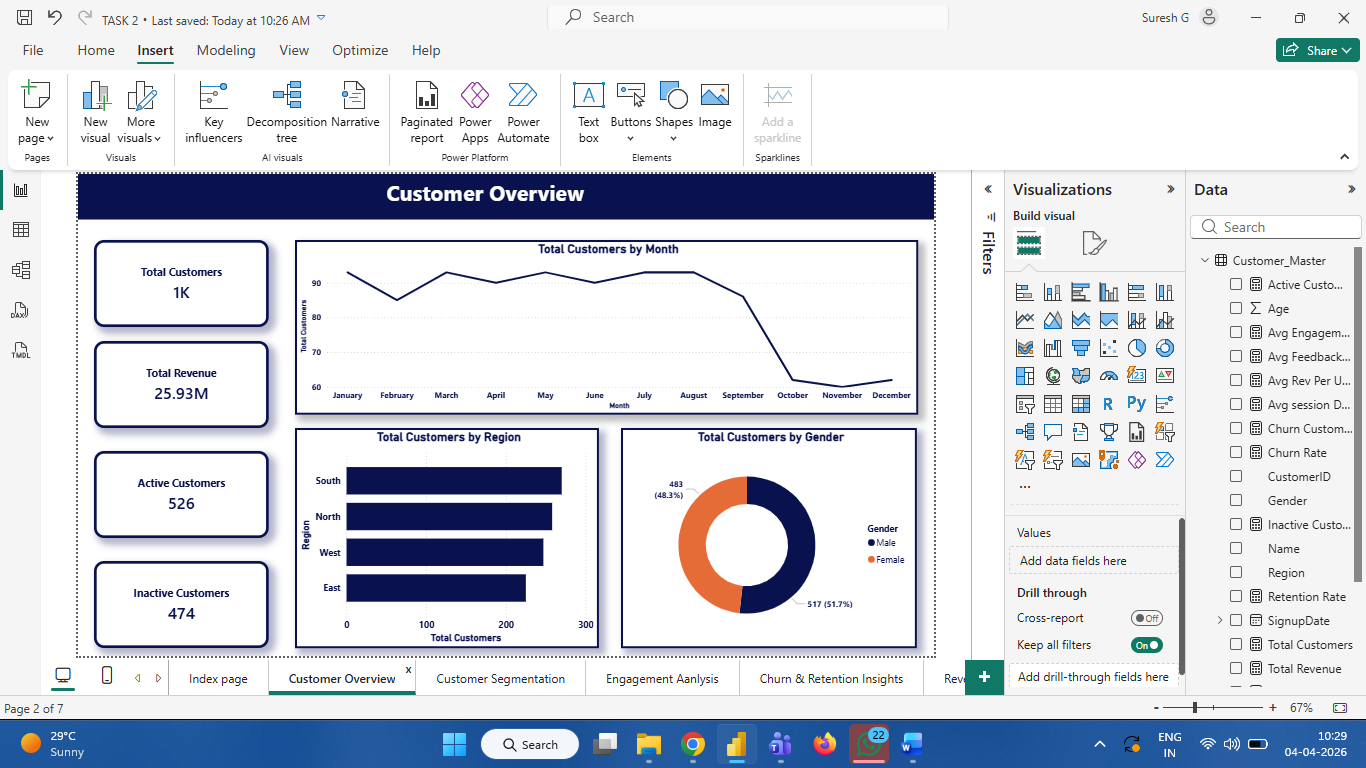

The page's visual inventory and layout, read from the dashboard file:
{"tool":"powerbi","page":{"name":"Customer Overview","canvas":[1280,720],"ordinal":1},"visuals":[{"type":"textbox","box":[0,0,1280,82.3],"z":0},{"type":"cardVisual","fields":{"Data":["Customer_Master.Total Customers"]},"box":[23.5,99.1,255.3,114.2],"z":1000},{"type":"cardVisual","fields":{"Data":["Customer_Master.Total Revenue"]},"box":[26.9,230.1,248.6,109.2],"z":2000},{"type":"cardVisual","fields":{"Data":["Customer_Master.Active Customers"]},"box":[23.5,492.2,248.6,104.1],"z":3000},{"type":"lineChart","fields":{"Category":["Customer_Master.SignupDate.Variation.Date Hierarchy.Year","Customer_Master.SignupDate.Variation.Date Hierarchy.Quarter","Customer_Master.SignupDate.Variation.Date Hierarchy.Month","Customer_Master.SignupDate.Variation.Date Hierarchy.Day"],"Y":["Customer_Master.Total Customers"]},"box":[324.1,98.6,930.6,261.4],"z":4000},{"type":"donutChart","fields":{"Y":["Customer_Master.Total Customers"],"Category":["Customer_Master.Gender"]},"box":[811.1,379.4,442.2,328.6],"z":5000},{"type":"barChart","fields":{"Y":["Customer_Master.Total Customers"],"Category":["Customer_Master.Region"]},"box":[324.1,379.4,454.1,328.6],"z":6000},{"type":"cardVisual","fields":{"Data":["Customer_Master.Avg Rev Per Unit"]},"box":[23.5,604.7,248.6,104.1],"z":7000},{"type":"slicer","fields":{"Values":["Customer_Master.Gender"]},"box":[1019.6,6.7,235.2,68.9],"z":8000},{"type":"cardVisual","fields":{"Data":["Customer_Master.Churn Rate"]},"box":[23.5,359.5,248.6,110.9],"z":9000}]}

Visuals, with their boxes on the page's 1280x720 design canvas (x1, y1, x2, y2). These are canvas units, not pixel positions in the 1366x768 screenshot, which may show the page scaled, cropped or inside an application window:
textbox: x1=0 y1=0 x2=1280 y2=82
cardVisual - Customer_Master.Total Customers: x1=24 y1=99 x2=279 y2=213
cardVisual - Customer_Master.Total Revenue: x1=27 y1=230 x2=276 y2=339
cardVisual - Customer_Master.Active Customers: x1=24 y1=492 x2=272 y2=596
lineChart - Customer_Master.SignupDate.Variation.Date Hierarchy.Year x Customer_Master.SignupDate.Variation.Date Hierarchy.Quarter: x1=324 y1=99 x2=1255 y2=360
donutChart - Customer_Master.Total Customers x Customer_Master.Gender: x1=811 y1=379 x2=1253 y2=708
barChart - Customer_Master.Total Customers x Customer_Master.Region: x1=324 y1=379 x2=778 y2=708
cardVisual - Customer_Master.Avg Rev Per Unit: x1=24 y1=605 x2=272 y2=709
slicer - Customer_Master.Gender: x1=1020 y1=7 x2=1255 y2=76
cardVisual - Customer_Master.Churn Rate: x1=24 y1=360 x2=272 y2=470
